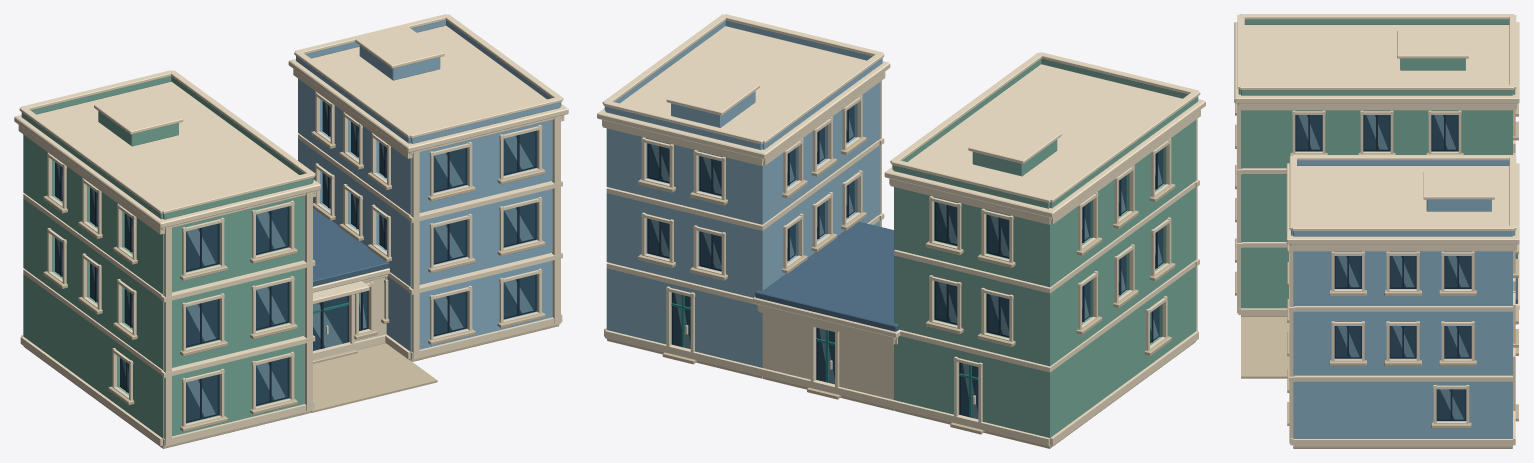
The model's file is joined_office_wings.glb.
3 renders of one model, left to right at view 1: azimuth 30°, elevation 25°; view 2: azimuth 150°, elevation 25°; view 3: azimuth 270°, elevation 25°, orthographic. The views are drawn at different scales.
Visible parts, largest first — view 1: JoinedOfficeWings_StaticMesh; view 2: JoinedOfficeWings_StaticMesh; view 3: JoinedOfficeWings_StaticMesh.
Part boxes in pixels (x1,y1,x2,y2): JoinedOfficeWings_StaticMesh: [14, 14, 568, 448]; JoinedOfficeWings_StaticMesh: [597, 14, 1205, 448]; JoinedOfficeWings_StaticMesh: [1234, 14, 1519, 448].
Size of the model in its own units: 18.72 by 10.14 by 10.92.
